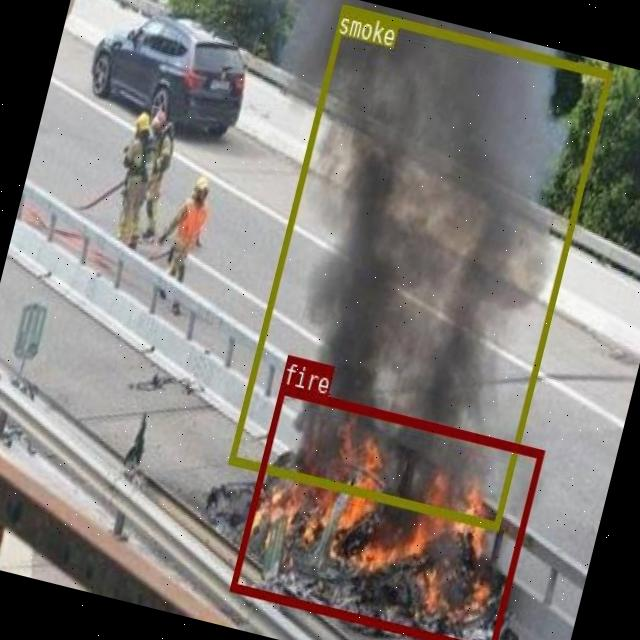fire: (229, 382, 543, 640)
smoke: (228, 4, 612, 528)
